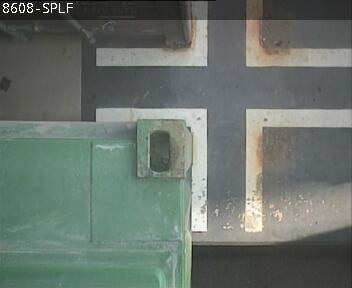groundmarker_1: (97, 108, 352, 231), (95, 1, 352, 65)
